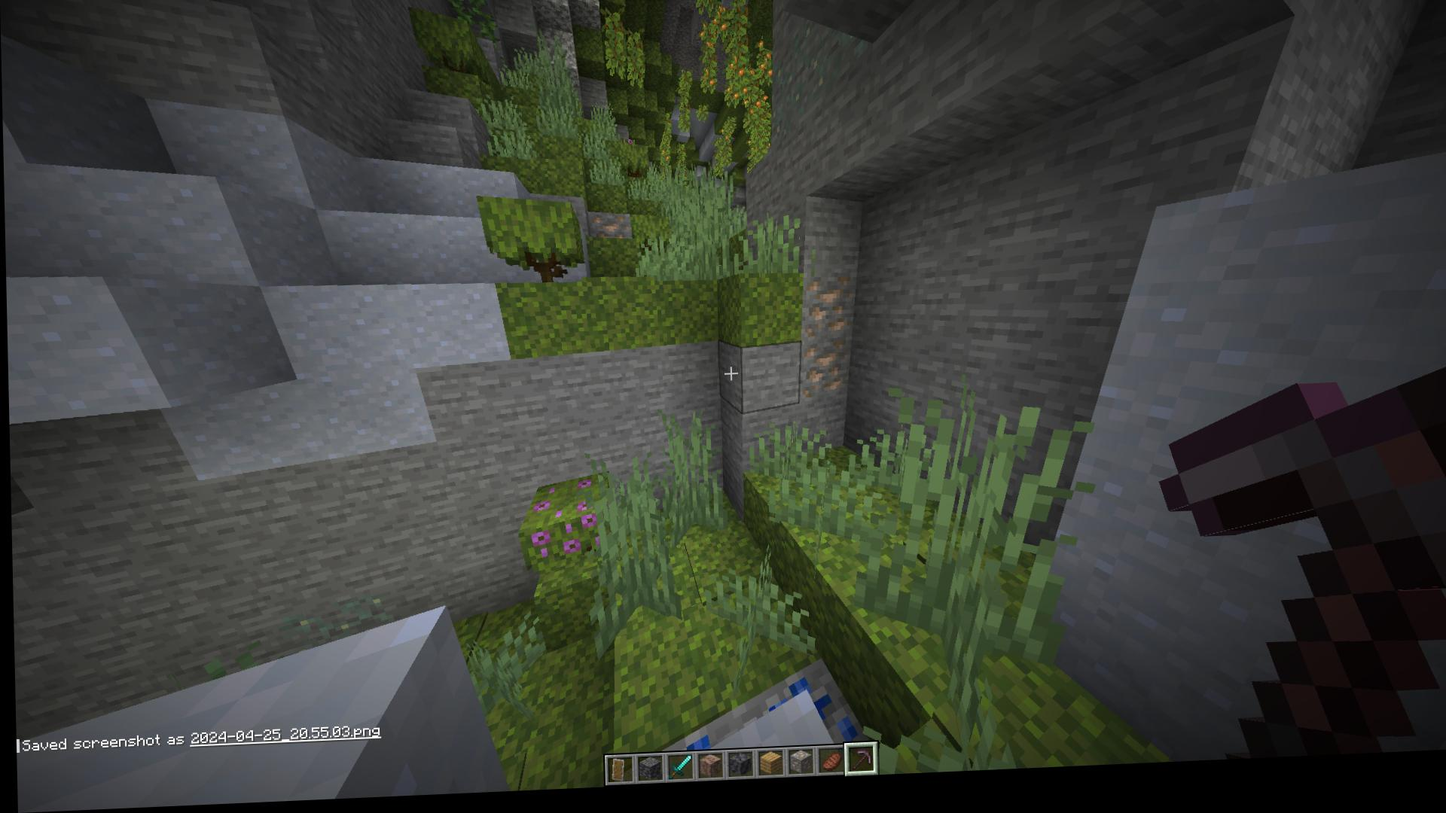iron ore: (797, 280, 856, 347), (796, 346, 851, 407), (586, 217, 631, 245)
